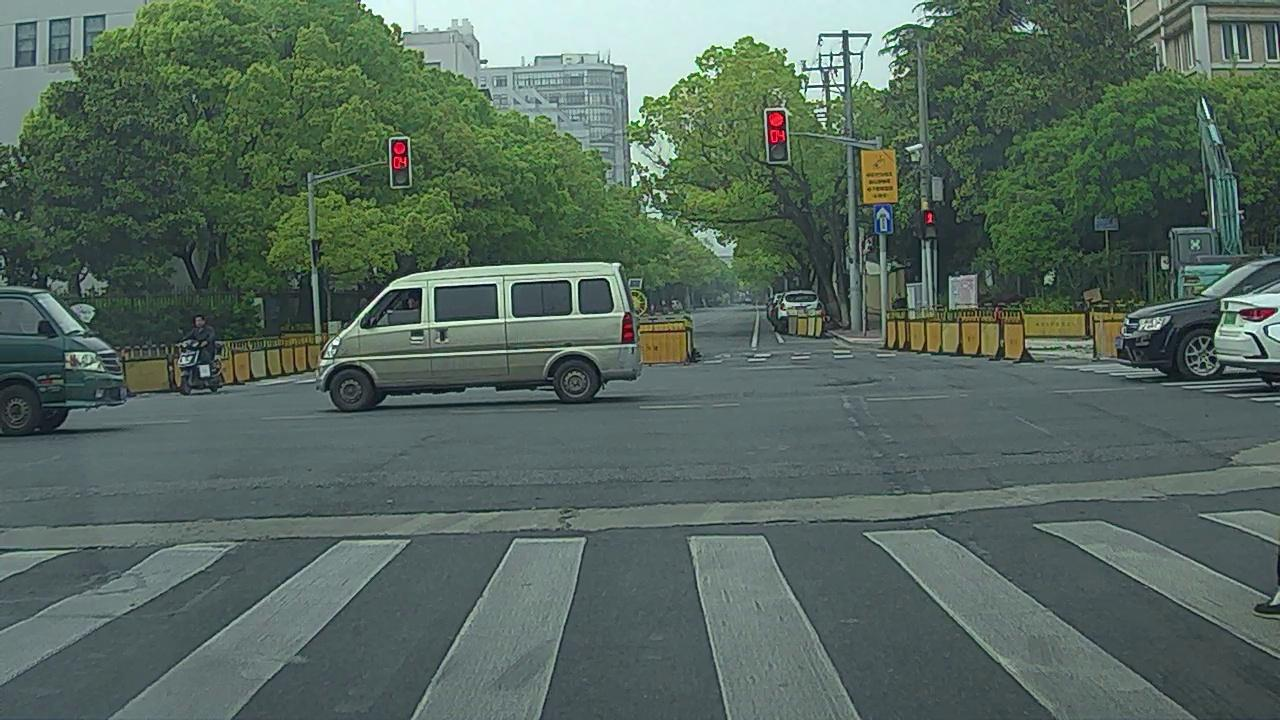traffic_light: (765, 111, 790, 162), (390, 139, 411, 187)
